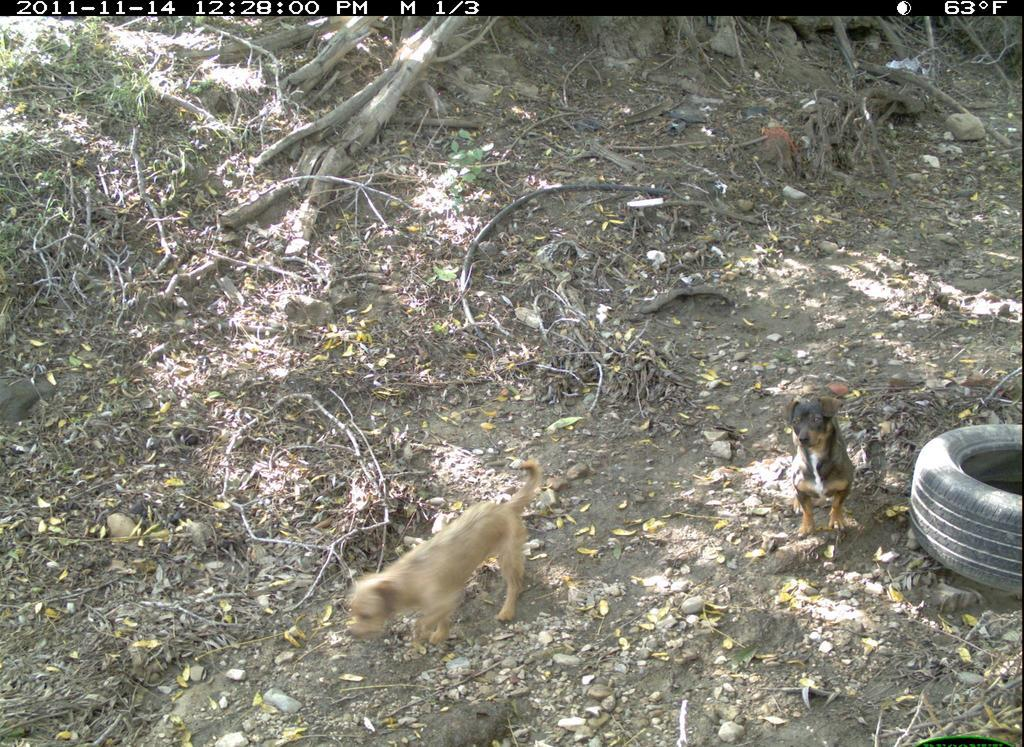dog: (329, 452, 561, 660), (777, 381, 865, 545)
